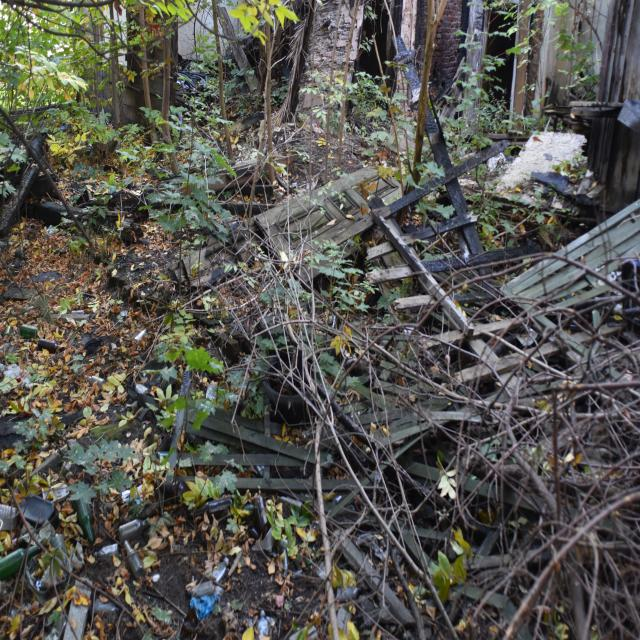entulho: (280, 316, 490, 535), (268, 158, 496, 306), (392, 33, 497, 275), (482, 101, 616, 244)
lixo domiciliar: (0, 534, 48, 583), (154, 478, 192, 504), (75, 498, 95, 544), (190, 582, 214, 620), (37, 476, 71, 501), (117, 518, 149, 544), (123, 541, 144, 580), (198, 497, 232, 519), (253, 495, 270, 535), (0, 502, 23, 530), (91, 596, 121, 616), (81, 369, 106, 390), (256, 609, 272, 640), (210, 559, 229, 585), (277, 538, 290, 574), (93, 543, 120, 560), (38, 338, 61, 354), (21, 322, 38, 340), (134, 378, 149, 398), (132, 327, 148, 344), (3, 322, 13, 341)
restos de madeira: (421, 337, 640, 628), (285, 330, 371, 640), (217, 169, 323, 400), (437, 245, 640, 345)
